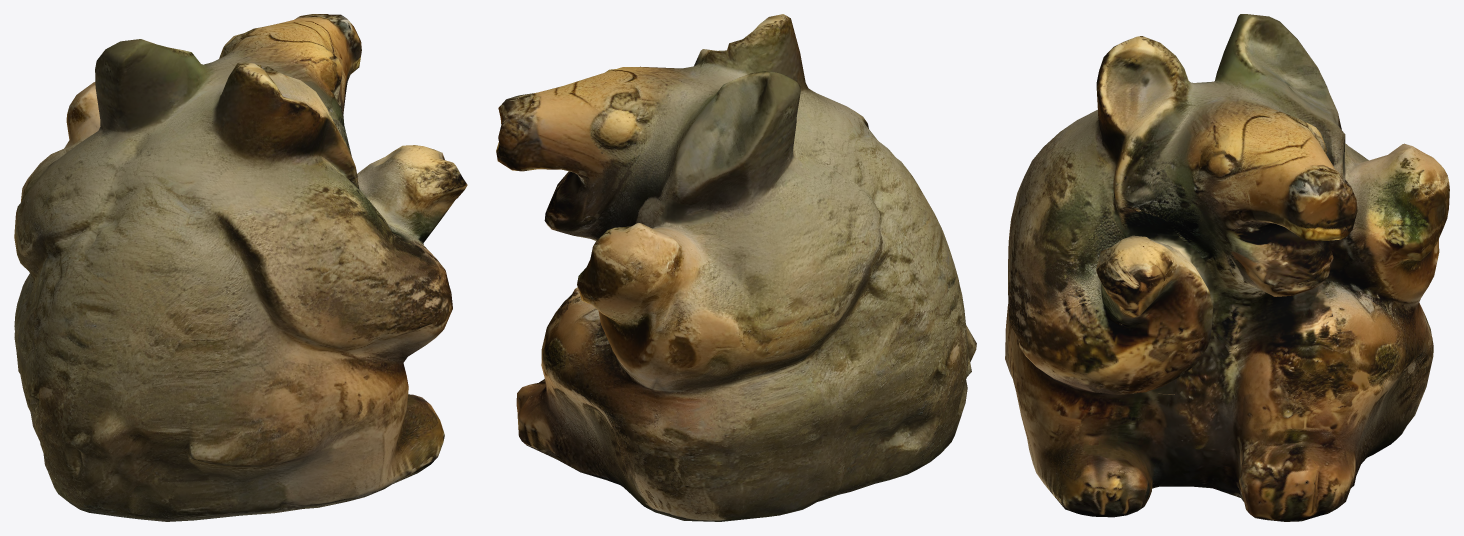
The model's file is stone animal sculpture 3d model.glb.
The picture shows the model from 3 angles, left to right: view 1: azimuth 30°, elevation 25°; view 2: azimuth 150°, elevation 25°; view 3: azimuth 270°, elevation 25°; orthographic projection. The views are drawn at different scales.
Parts seen in each view (by area): view 1: tripo_node_3ec1c2c5-8f39-4c65-a561-4eae40825bc8; view 2: tripo_node_3ec1c2c5-8f39-4c65-a561-4eae40825bc8; view 3: tripo_node_3ec1c2c5-8f39-4c65-a561-4eae40825bc8.
Boxes of the visible parts, bbox=[...] form: tripo_node_3ec1c2c5-8f39-4c65-a561-4eae40825bc8: bbox=[14, 14, 467, 521]; tripo_node_3ec1c2c5-8f39-4c65-a561-4eae40825bc8: bbox=[496, 14, 976, 521]; tripo_node_3ec1c2c5-8f39-4c65-a561-4eae40825bc8: bbox=[1005, 14, 1449, 521].
Size of the model in its own units: 0.9969 by 1 by 0.9758.
1 material, 1 textured.
